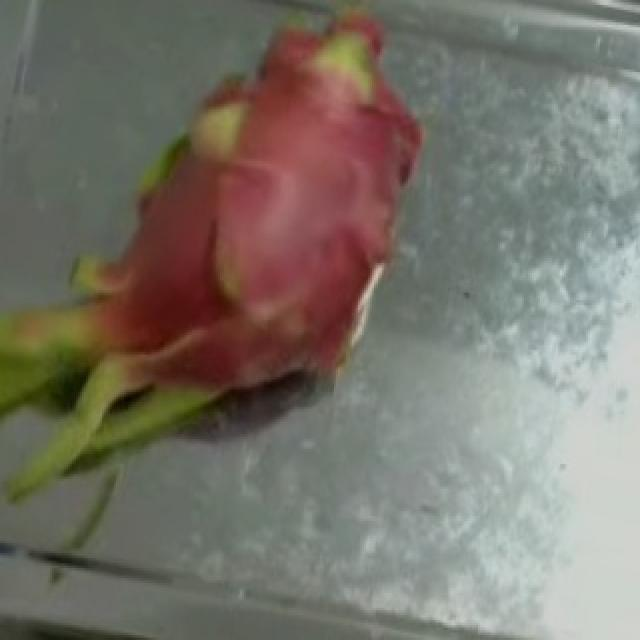fruit: (12, 2, 450, 454)
